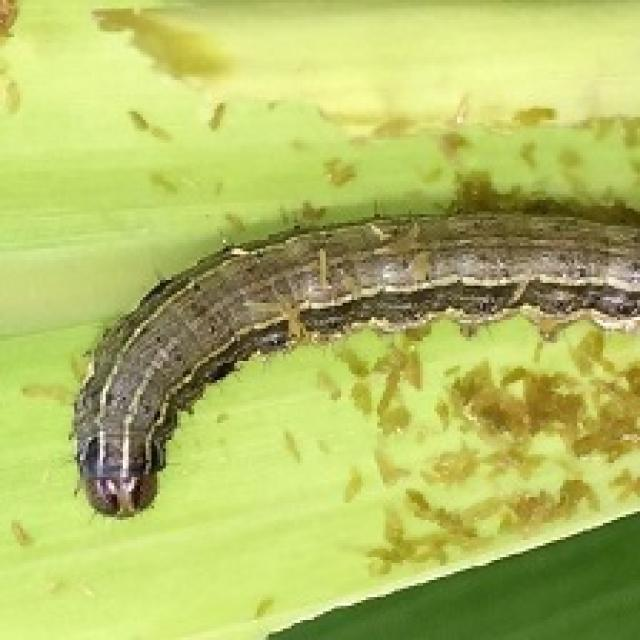Fall-armyworm: (74, 204, 640, 522)
